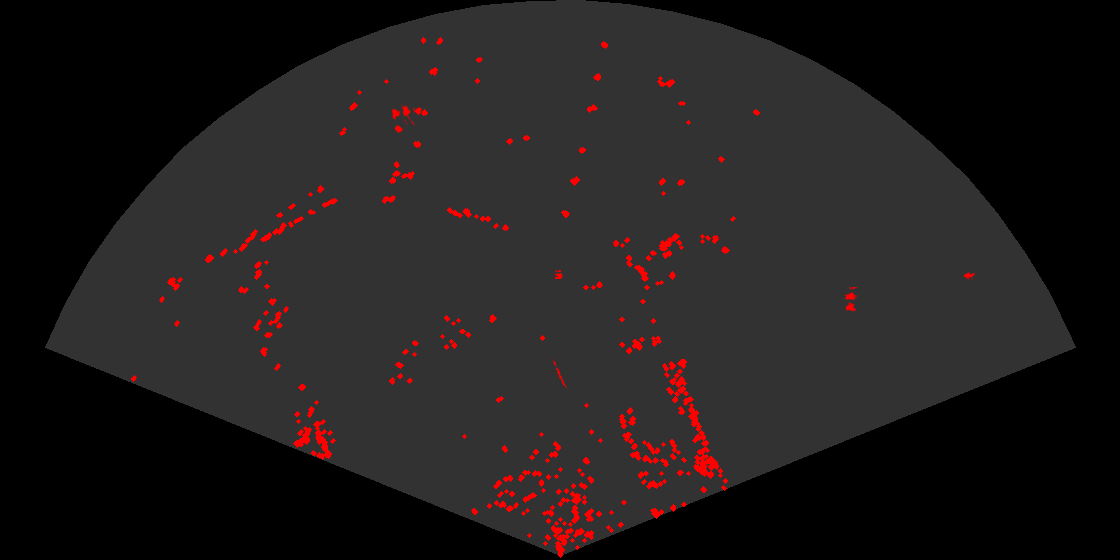AUV: (962, 271, 975, 280)
ball: (553, 269, 564, 279)
cage: (390, 103, 415, 125), (842, 287, 859, 313)
chain: (551, 359, 568, 390)
